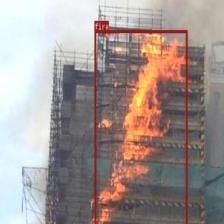fire: (94, 29, 188, 224)
